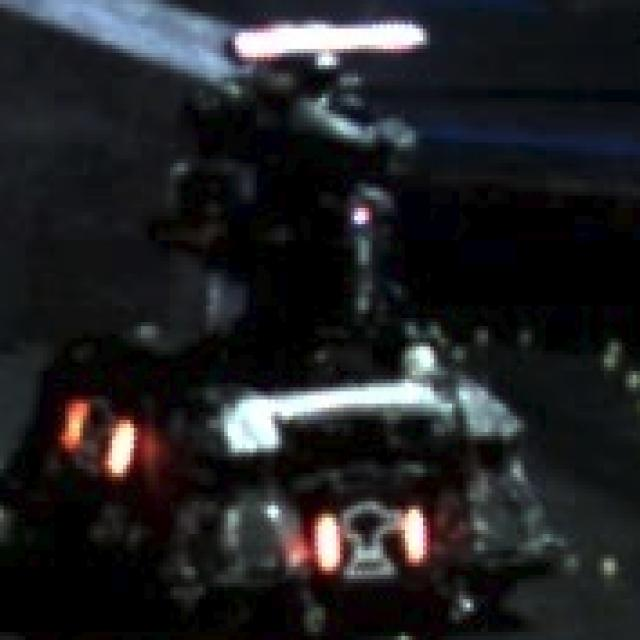Rs: (304, 489, 438, 571), (62, 391, 148, 477)
